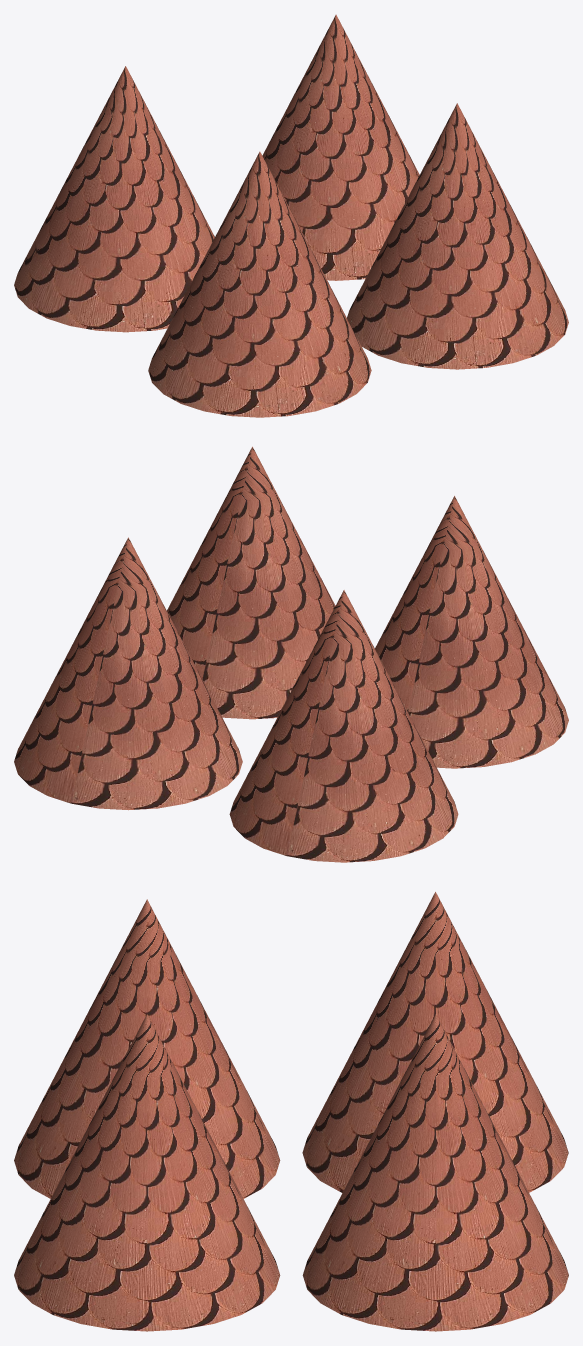
The model's file is roof.obj.
The picture shows the model from 3 angles, top to bottom: view 1: azimuth 30°, elevation 25°; view 2: azimuth 150°, elevation 25°; view 3: azimuth 270°, elevation 25°; orthographic projection. The views are drawn at different scales.
Parts seen in each view (by area): view 1: Cone004, Cone003, Cone001, Cone002; view 2: Cone001, Cone002, Cone004, Cone003; view 3: Cone003, Cone002, Cone001, Cone004.
Boxes of the visible parts, x1,y1,x2,y2 form: Cone004: [148, 151, 371, 417]; Cone003: [347, 103, 568, 369]; Cone001: [14, 66, 214, 332]; Cone002: [262, 14, 419, 280]; Cone001: [229, 590, 458, 862]; Cone002: [14, 537, 242, 810]; Cone004: [375, 496, 568, 768]; Cone003: [167, 446, 335, 719]; Cone003: [14, 1014, 280, 1331]; Cone002: [302, 1014, 568, 1331]; Cone001: [302, 892, 568, 1192]; Cone004: [14, 899, 280, 1198].
Size of the model in its own units: 20.43 by 10.6 by 20.39.
